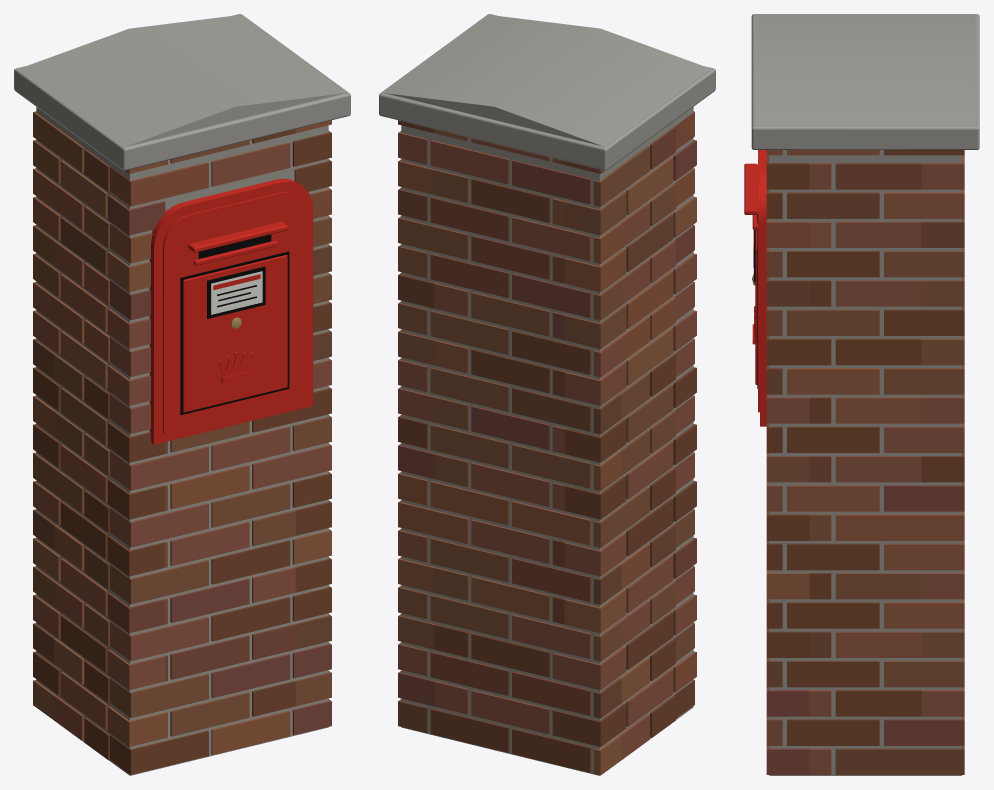
File: street.furniture.post_box_d.glb
3 renders of one model, left to right at view 1: azimuth 30°, elevation 25°; view 2: azimuth 150°, elevation 25°; view 3: azimuth 270°, elevation 25°, orthographic. The views are drawn at different scales.
Parts seen in each view (by area): view 1: main__concrete_854, main__enamel_c22, main__concrete_a99, main__concrete_743, main__concrete_853, main__concrete_999, main__concrete_954, main__concrete_844, main__concrete_964, main__concrete_753, main__concrete_843, main__concrete_953 (+2 smaller); view 2: main__concrete_853, main__concrete_854, main__concrete_a99, main__concrete_743, main__concrete_999, main__concrete_954, main__concrete_843, main__concrete_844, main__concrete_753, main__concrete_964; view 3: main__concrete_743, main__concrete_a99, main__concrete_954, main__concrete_999, main__concrete_853, main__concrete_854, main__concrete_753, main__concrete_844, main__enamel_c22, main__concrete_843, main__concrete_964, main__concrete_953.
Boxes of the visible parts, x1,y1,x2,y2 form: main__concrete_854: (33, 142, 331, 740); main__enamel_c22: (149, 178, 313, 444); main__concrete_a99: (14, 14, 350, 170); main__concrete_743: (33, 129, 331, 774); main__concrete_853: (33, 111, 331, 736); main__concrete_999: (36, 107, 328, 775); main__concrete_954: (33, 120, 331, 754); main__concrete_844: (107, 195, 331, 735); main__concrete_964: (33, 160, 331, 719); main__concrete_753: (33, 217, 331, 681); main__concrete_843: (84, 149, 295, 679); main__concrete_953: (110, 162, 331, 218); main__concrete_853: (398, 146, 694, 661); main__concrete_854: (398, 131, 696, 759); main__concrete_a99: (379, 14, 715, 170); main__concrete_743: (398, 120, 696, 772); main__concrete_999: (401, 107, 693, 775); main__concrete_954: (398, 159, 696, 692); main__concrete_843: (430, 127, 696, 715); main__concrete_844: (398, 140, 696, 706); main__concrete_753: (398, 188, 675, 732); main__concrete_964: (434, 129, 696, 775); main__concrete_743: (766, 150, 964, 745); main__concrete_a99: (751, 14, 979, 149); main__concrete_954: (766, 150, 964, 657); main__concrete_999: (769, 150, 961, 775); main__concrete_853: (766, 248, 964, 745); main__concrete_854: (766, 155, 964, 774); main__concrete_753: (766, 192, 964, 774); main__concrete_844: (766, 482, 964, 774); main__enamel_c22: (744, 150, 766, 426); main__concrete_843: (809, 163, 921, 482); main__concrete_964: (766, 221, 831, 599); main__concrete_953: (766, 219, 809, 247).
Bounding box in the file's own units: 0.63 × 1.72 × 0.547.
